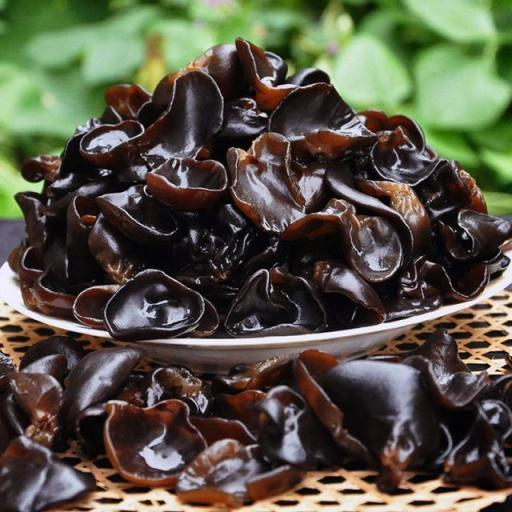mushroom: (14, 34, 512, 330), (0, 340, 512, 511)
